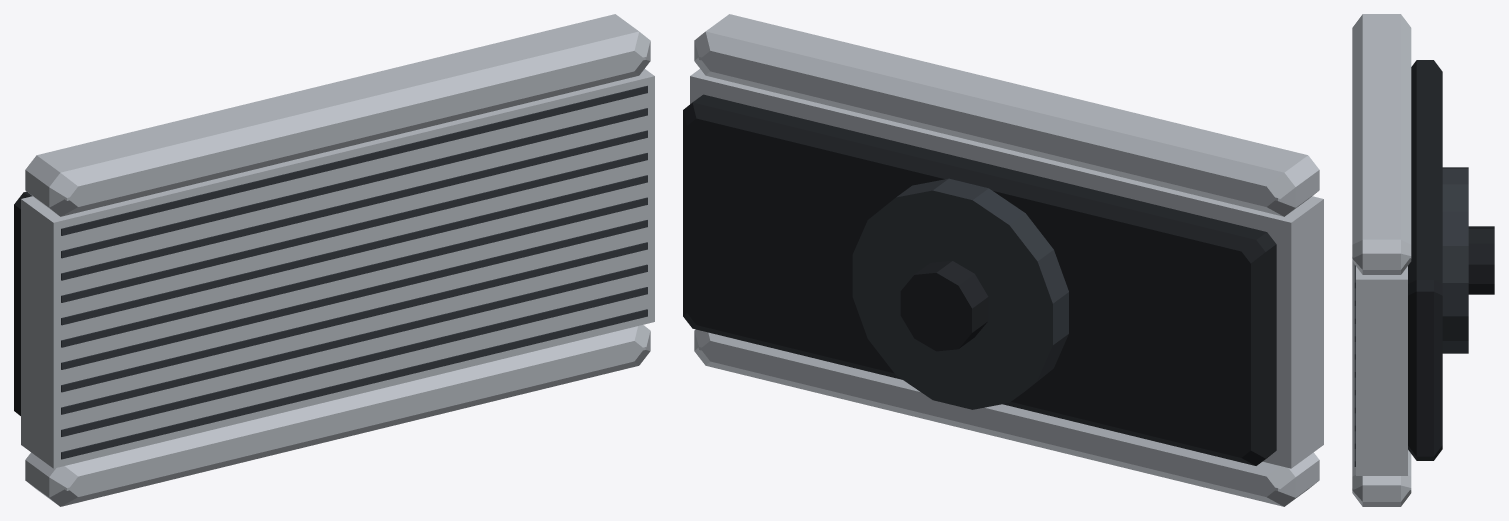
Rendered from strada_evo.glb.
The picture shows the model from 3 angles, left to right: view 1: azimuth 30°, elevation 25°; view 2: azimuth 150°, elevation 25°; view 3: azimuth 270°, elevation 25°; orthographic projection. The views are drawn at different scales.
Visible parts, largest first — view 1: model; view 2: model; view 3: model.
Boxes of the visible parts, x1,y1,x2,y2 form: model: [14, 14, 654, 506]; model: [683, 14, 1323, 506]; model: [1352, 14, 1494, 506].
Bounding box in the file's own units: 0.64 × 0.34 × 0.164.
Materials: 1 (1 with a texture image).
